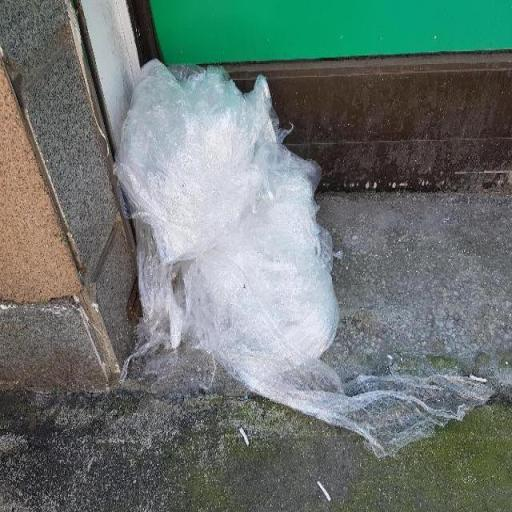plastic-bag: (112, 53, 343, 403)
